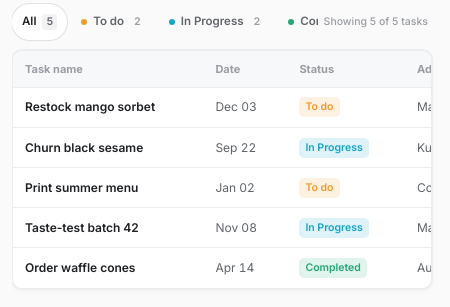
Test: FilterTable › removes filtered rows from the accessibility tree and announces results
Click the button "To do 2".
click(113, 22)  # box [71,4,155,40]
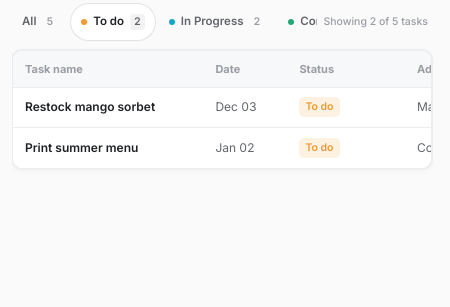
Now the number of rows is 3, box [13,51,432,87]; [13,88,432,128]; [13,128,432,168]
Now the column heading "Churn black sesame" is gone
Now the message reads "Showing 2 of 5 tasks", box [324,15,428,28]
